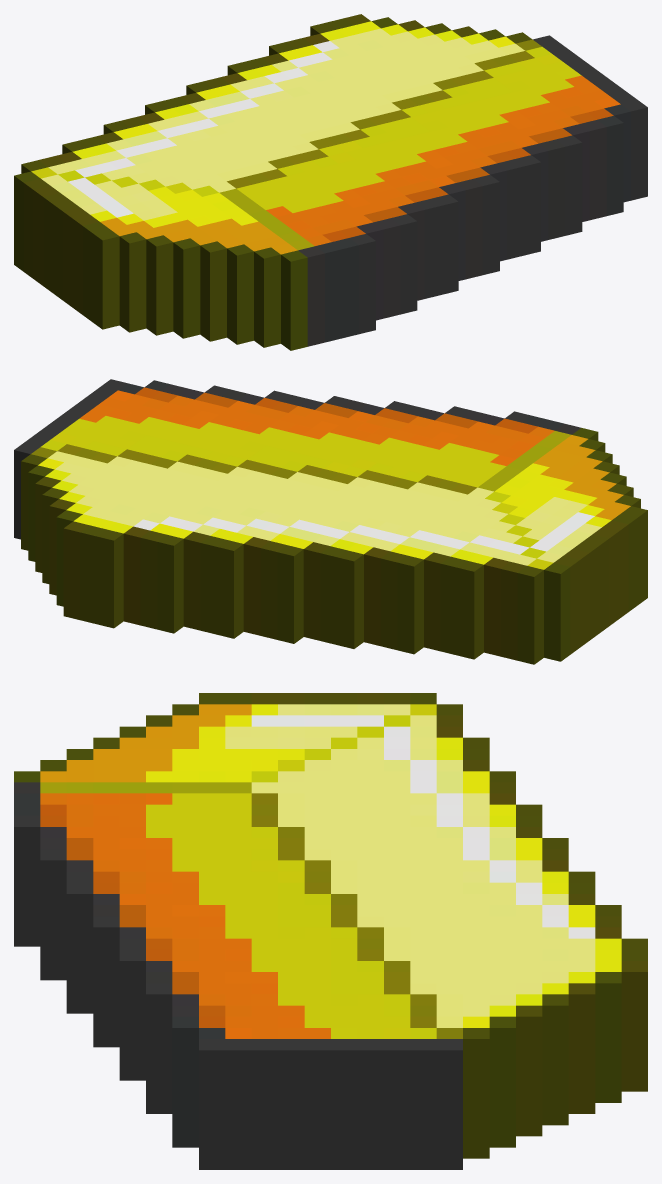
Rendered from GoldBar.obj.
3 views of the same model, one above another, from view 1: azimuth 30°, elevation 25°; view 2: azimuth 150°, elevation 25°; view 3: azimuth 270°, elevation 25° (orthographic). The views are drawn at different scales.
Visible parts, largest first — view 1: Goldbar; view 2: Goldbar; view 3: Goldbar.
Boxes of the visible parts, left/top/right/bottom form: Goldbar: left=14, top=14, right=647, bottom=350; Goldbar: left=14, top=379, right=647, bottom=664; Goldbar: left=14, top=693, right=647, bottom=1169.
Bounding box in the file's own units: 3.2 × 0.5 × 2.4.
Materials: 1 (1 with a texture image).
